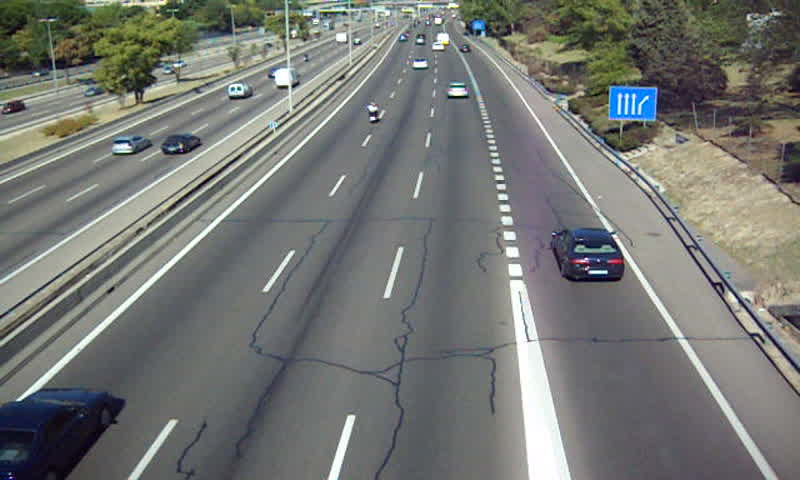car: (1, 388, 107, 480), (554, 228, 623, 279), (447, 82, 469, 98), (410, 57, 429, 70)
motorcycle: (364, 100, 380, 125)
